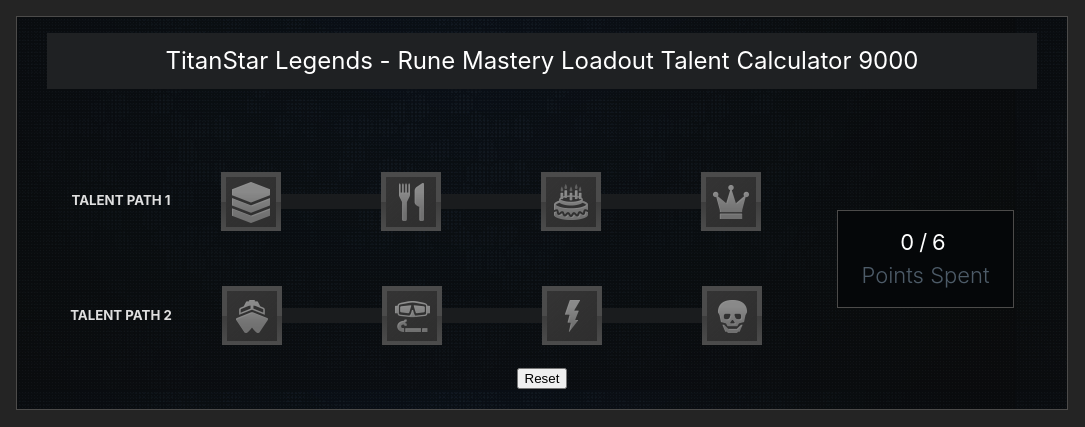
Scenario: Rune Mastery Loadout Talent Calculator 9000 › adds points on left click
Expected: the text with test id "points-spent" reads "0", [900,229,919,255]
Note: click on the first talent
Click the button with test id "talent-1".
click(222, 202)  # box [221,172,281,231]
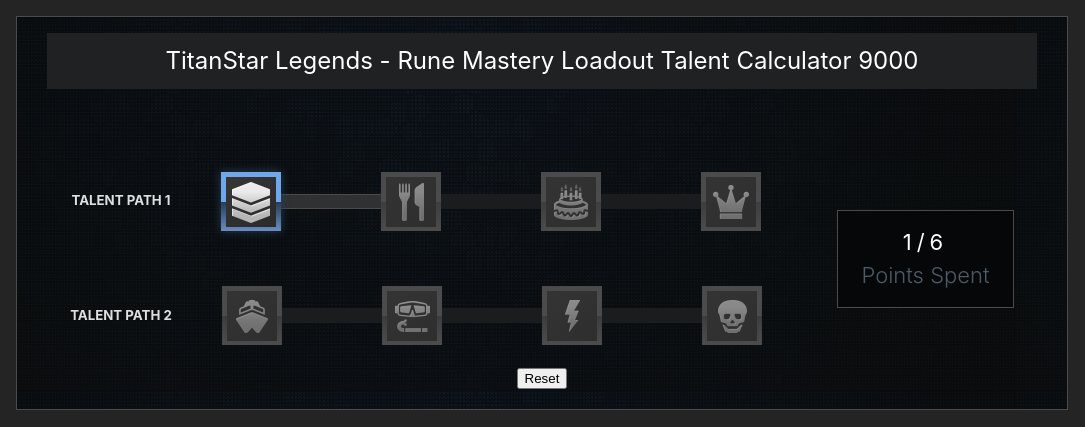
Expected: the text with test id "points-spent" reads "1", [903,229,917,255]
